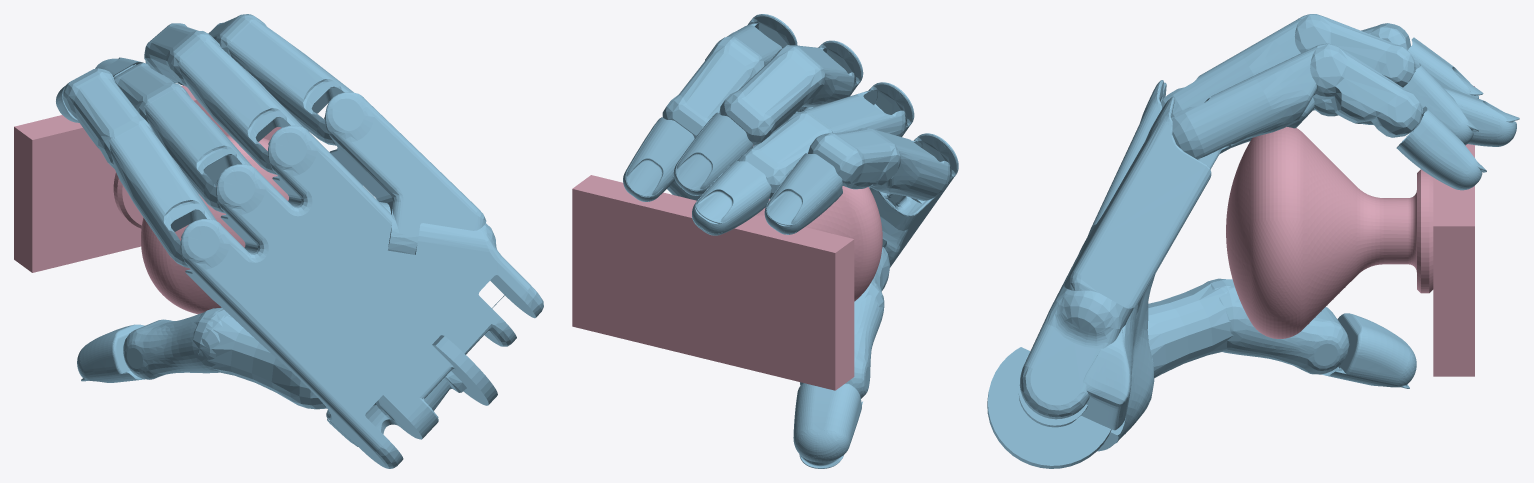
3 renders of one model, left to right at view 1: azimuth 30°, elevation 25°; view 2: azimuth 150°, elevation 25°; view 3: azimuth 270°, elevation 25°, orthographic. The views are drawn at different scales.
Visible parts, largest first — view 1: world; view 2: world; view 3: world.
Boxes of the visible parts, x1,y1,x2,y2 form: world: (14,14,543,468); world: (572,14,958,468); world: (987,14,1519,468).
Bounding box in the file's own units: 0.1333 × 0.1373 × 0.1605.
